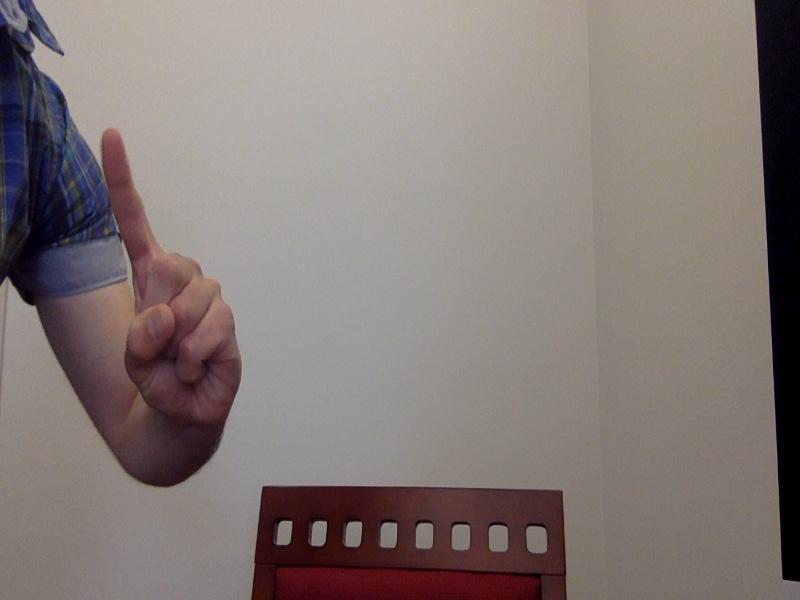1-hand: (100, 127, 242, 428)
